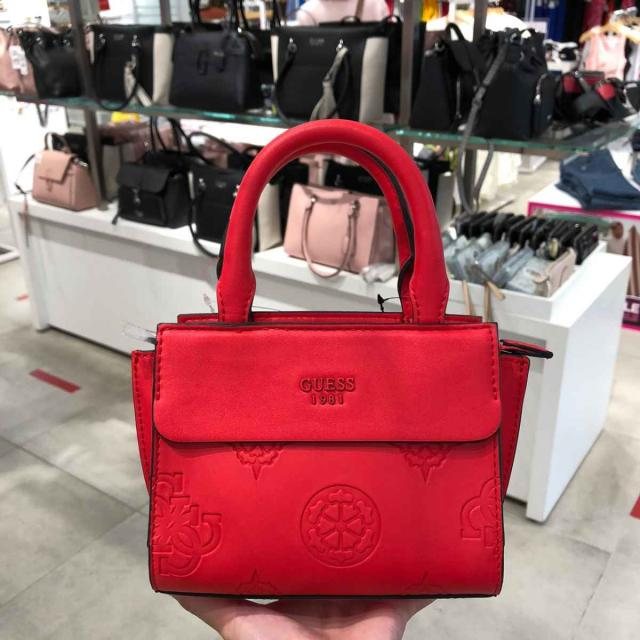handbag: (131, 117, 532, 597)
